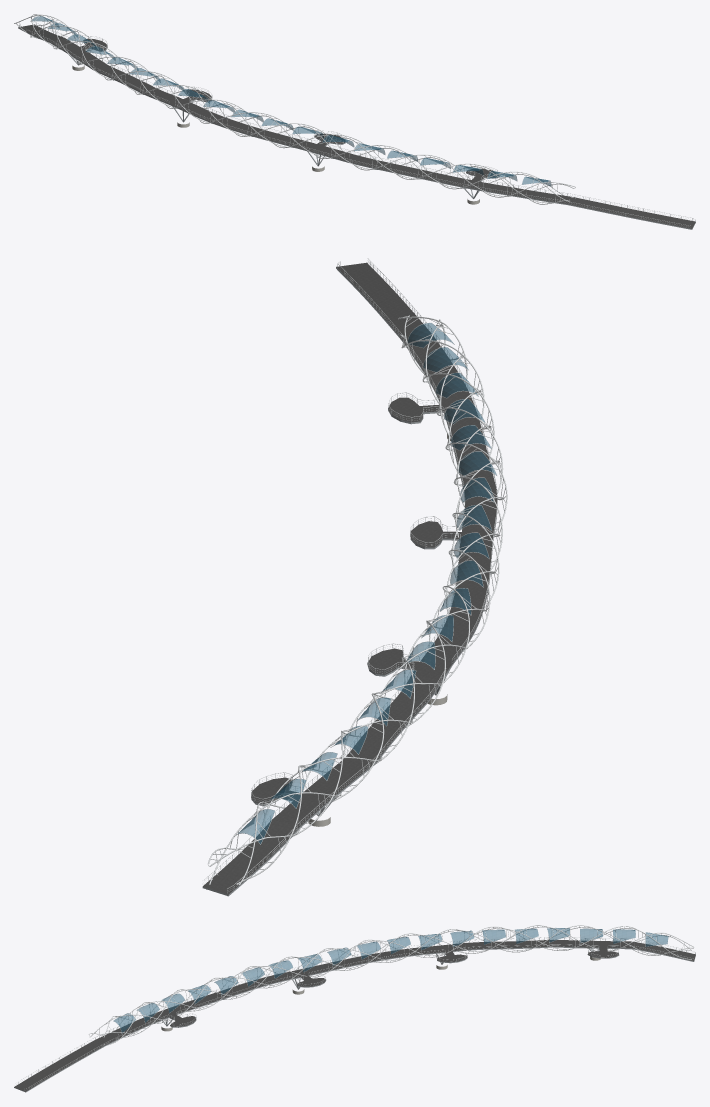
The picture shows the model from 3 angles, top to bottom: view 1: azimuth 30°, elevation 25°; view 2: azimuth 150°, elevation 25°; view 3: azimuth 270°, elevation 25°; orthographic projection. The views are drawn at different scales.
Parts seen in each view (by area): view 1: Asphalt wearing course, Duplex stainless steel, Fritted canopy, Deck edge and crossbeams; view 2: Asphalt wearing course, Duplex stainless steel, Fritted canopy, Deck edge and crossbeams; view 3: Asphalt wearing course, Duplex stainless steel, Fritted canopy, Deck edge and crossbeams.
Boxes of the visible parts, bbox=[...] form: Asphalt wearing course: bbox=[18, 24, 695, 228]; Duplex stainless steel: bbox=[14, 14, 693, 227]; Fritted canopy: bbox=[32, 16, 551, 186]; Deck edge and crossbeams: bbox=[18, 23, 695, 229]; Asphalt wearing course: bbox=[203, 262, 497, 894]; Duplex stainless steel: bbox=[203, 258, 507, 892]; Fritted canopy: bbox=[238, 323, 496, 843]; Deck edge and crossbeams: bbox=[202, 261, 497, 896]; Asphalt wearing course: bbox=[14, 940, 695, 1091]; Duplex stainless steel: bbox=[15, 925, 694, 1088]; Fritted canopy: bbox=[114, 928, 668, 1033]; Deck edge and crossbeams: bbox=[14, 938, 695, 1092].
Bounding box in the file's own units: 137 × 16.35 × 281.
Materials: 7 (4 with a texture image).
